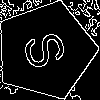S: (20, 25, 78, 72)
